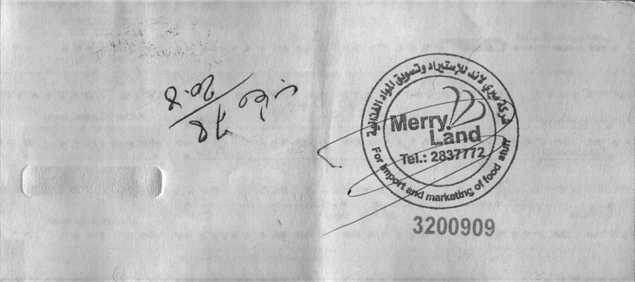stamp: (360, 53, 521, 211)
